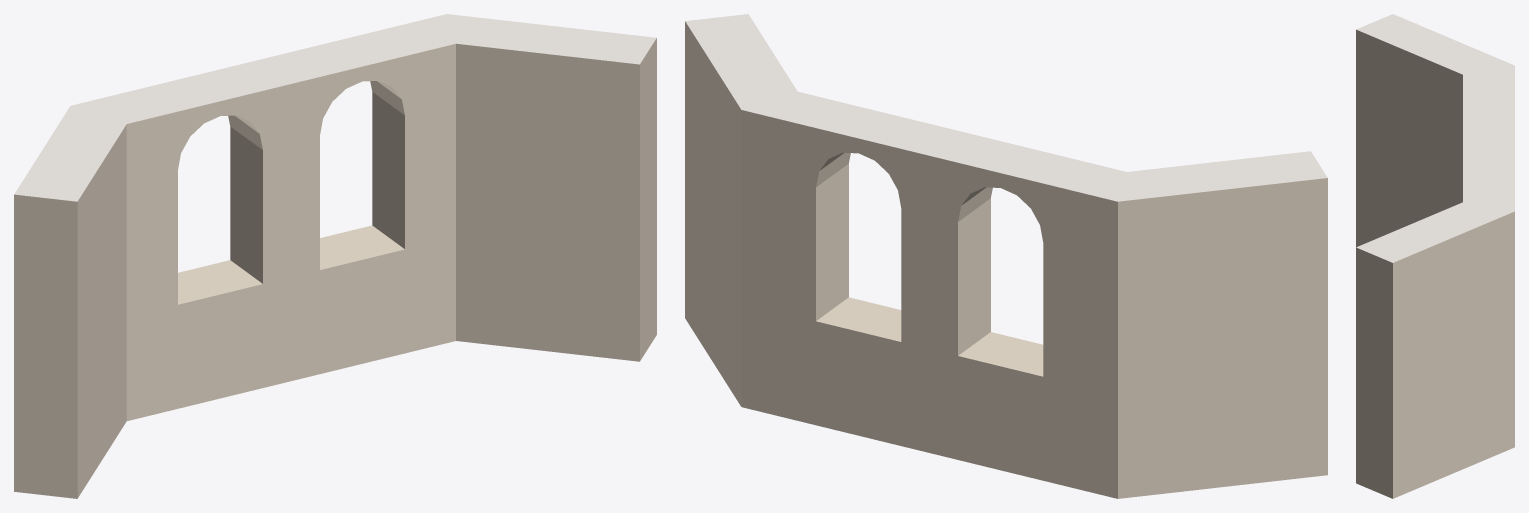
Rendered from Tower_Wall_Normal_Windows.glb.
3 views of the same model, side by side, from view 1: azimuth 30°, elevation 25°; view 2: azimuth 150°, elevation 25°; view 3: azimuth 270°, elevation 25° (orthographic). The views are drawn at different scales.
Parts seen in each view (by area): view 1: Tower_Wall_Normal_Windows; view 2: Tower_Wall_Normal_Windows; view 3: Tower_Wall_Normal_Windows.
Part boxes in pixels (box(x1,y1,x2,y2)): Tower_Wall_Normal_Windows: box(14, 14, 656, 498); Tower_Wall_Normal_Windows: box(685, 14, 1327, 498); Tower_Wall_Normal_Windows: box(1356, 14, 1514, 498).
Bounding box in the file's own units: 2.26 × 1 × 0.6101.
